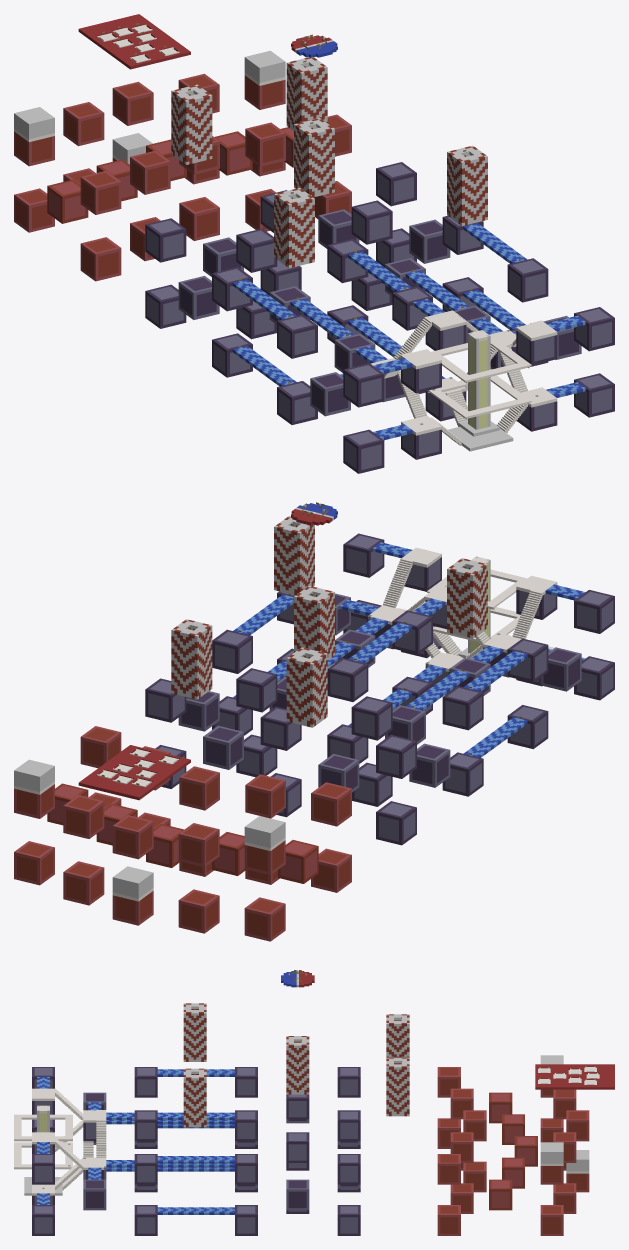
Rendered from minecraft.obj.
The picture shows the model from 3 angles, top to bottom: view 1: azimuth 30°, elevation 25°; view 2: azimuth 150°, elevation 25°; view 3: azimuth 270°, elevation 25°; orthographic projection. The views are drawn at different scales.
Bounding box in the file's own units: 89 × 91.75 × 234.
